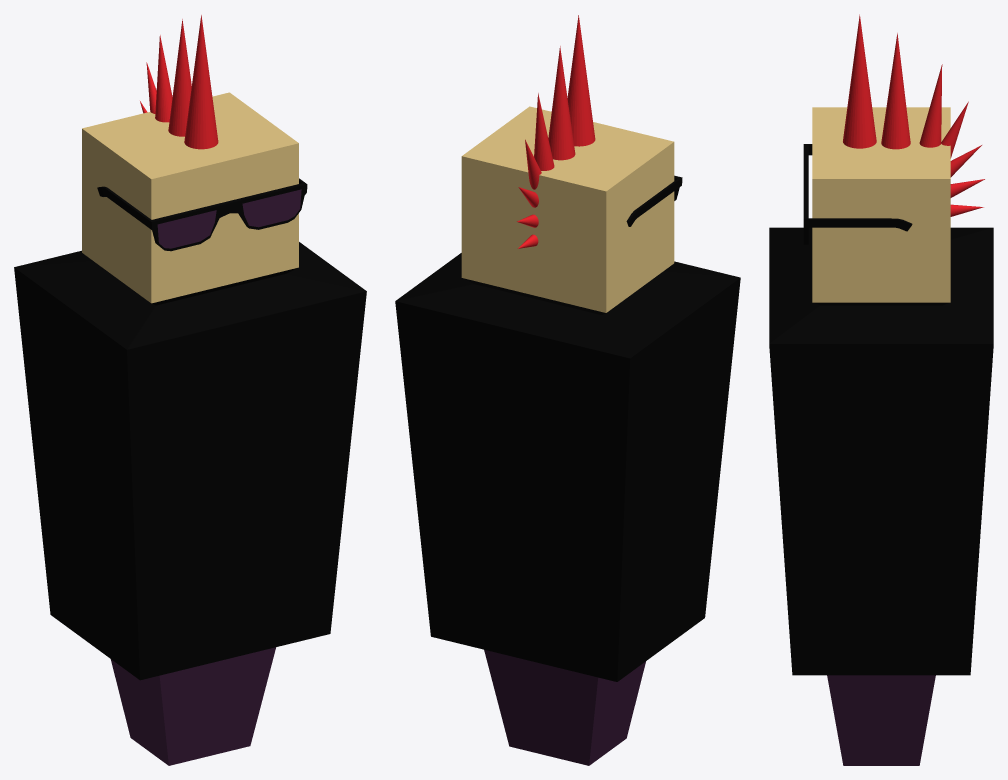
File: Человек №3.fbx
3 views of the same model, side by side, from view 1: azimuth 30°, elevation 25°; view 2: azimuth 150°, elevation 25°; view 3: azimuth 270°, elevation 25° (orthographic). The views are drawn at different scales.
Parts seen in each view (by area): view 1: Cube; view 2: Cube; view 3: Cube.
Part boxes in pixels (x1,y1,x2,y2): Cube: (14, 15, 366, 765); Cube: (395, 15, 740, 765); Cube: (769, 14, 993, 765).
Bounding box in the file's own units: 200 × 586 × 163.
